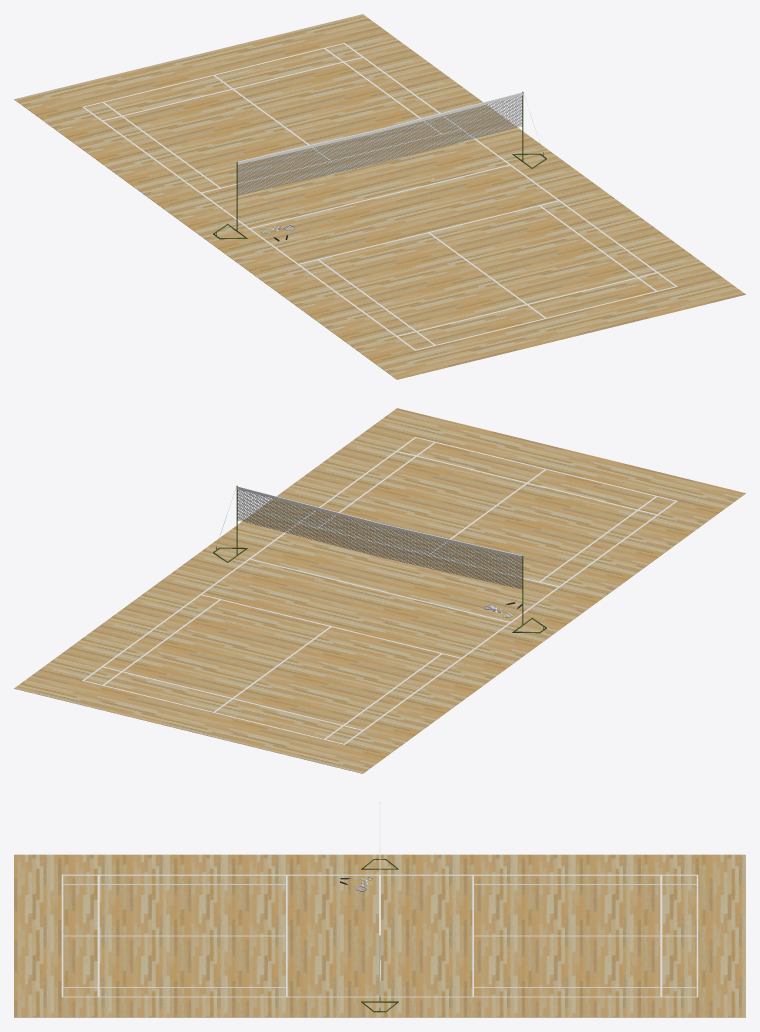
The model's file is Badminton Court.fbx.
3 views of the same model, one above another, from view 1: azimuth 30°, elevation 25°; view 2: azimuth 150°, elevation 25°; view 3: azimuth 270°, elevation 25° (orthographic). The views are drawn at different scales.
Visible parts, largest first — view 1: G-Object.108, G-Object.121, C-Group#56; view 2: G-Object.108, G-Object.121, C-Group#56; view 3: G-Object.108, C-Group#56.
Boxes of the visible parts, x1,y1,x2,y2 form: G-Object.108: (14, 14, 745, 379); G-Object.121: (237, 92, 522, 195); C-Group#56: (82, 43, 677, 350); G-Object.108: (14, 408, 745, 773); G-Object.121: (237, 486, 522, 589); C-Group#56: (82, 437, 677, 744); G-Object.108: (14, 854, 745, 1017); C-Group#56: (61, 874, 698, 997).
Size of the model in its own units: 810 by 156 by 1540.
20 materials, 4 textured.
